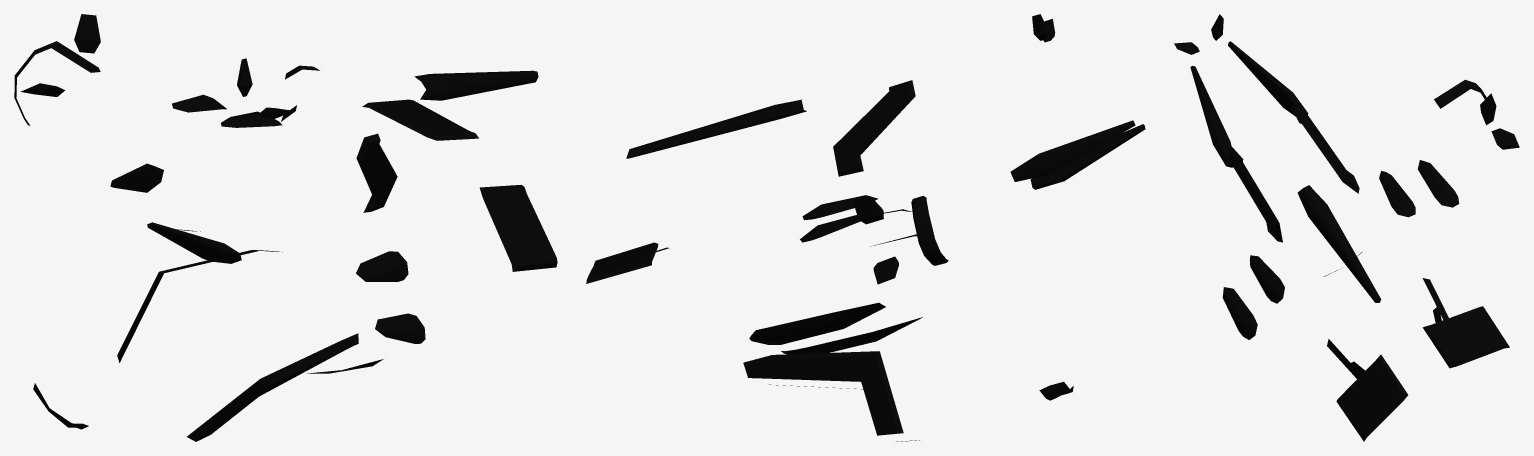
Rendered from ama_ship_wreck_01_05.glb.
The picture shows the model from 3 angles, left to right: view 1: azimuth 30°, elevation 25°; view 2: azimuth 150°, elevation 25°; view 3: azimuth 270°, elevation 25°; orthographic projection. The views are drawn at different scales.
Parts seen in each view (by area): view 1: ama_ship_wreck_01_05_LOD0; view 2: ama_ship_wreck_01_05_LOD0; view 3: ama_ship_wreck_01_05_LOD0.
Boxes of the visible parts, x1,y1,x2,y2 form: ama_ship_wreck_01_05_LOD0: (14, 14, 557, 441); ama_ship_wreck_01_05_LOD0: (586, 14, 1145, 441); ama_ship_wreck_01_05_LOD0: (1174, 14, 1519, 441).
Size of what is drawn, in the model's own units: 6.14 by 5.12 by 4.65.
Materials: 1 (1 with a texture image).
